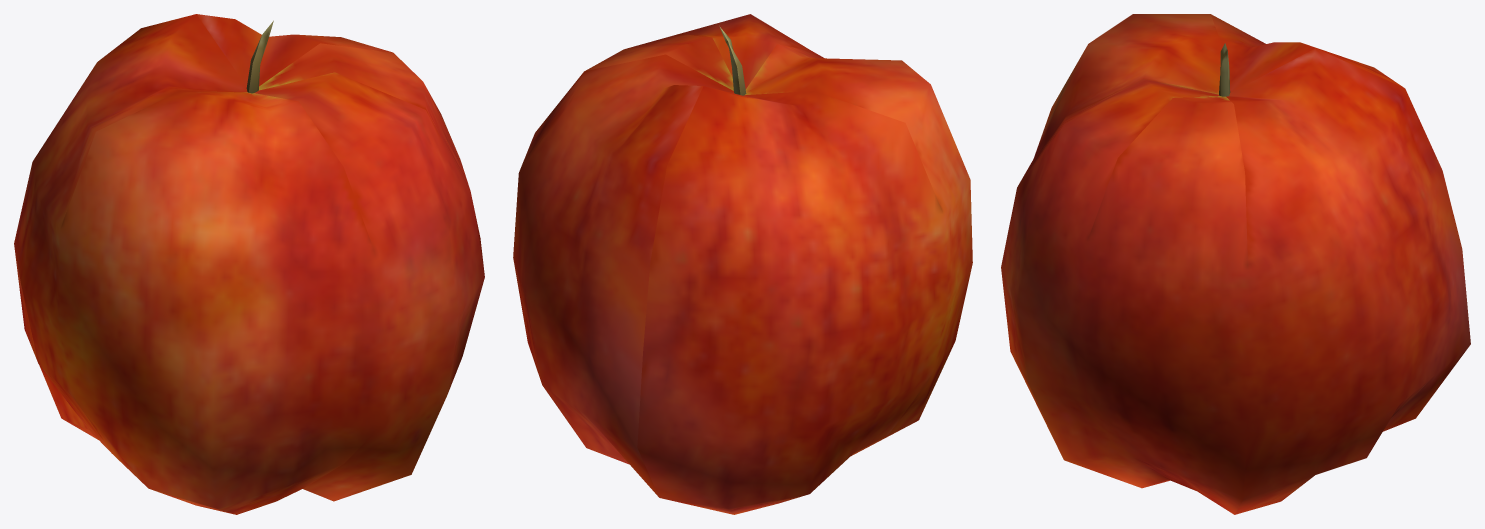
Rendered from apple_part_3.FBX.
3 views of the same model, side by side, from view 1: azimuth 30°, elevation 25°; view 2: azimuth 150°, elevation 25°; view 3: azimuth 270°, elevation 25° (orthographic). The views are drawn at different scales.
Visible parts, largest first — view 1: apple_part_3; view 2: apple_part_3; view 3: apple_part_3.
Boxes of the visible parts, left/top/right/bottom form: apple_part_3: left=14, top=14, right=484, bottom=514; apple_part_3: left=513, top=14, right=972, bottom=514; apple_part_3: left=1001, top=14, right=1470, bottom=514.
Size of the model in its own units: 0.1732 by 0.1819 by 0.1749.
